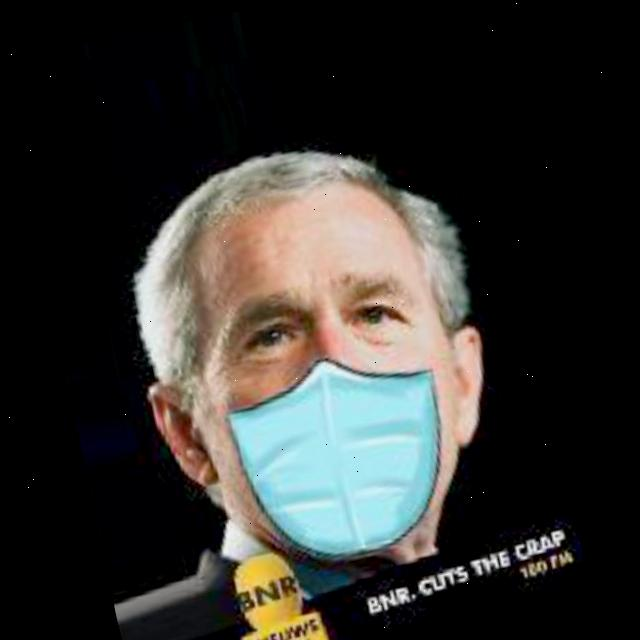suspicion: (132, 142, 575, 628)
